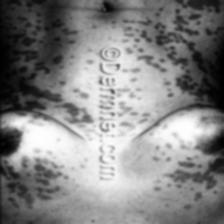Non-Cancerous Skin Condition: (146, 0, 222, 103), (0, 156, 60, 211), (165, 156, 224, 190)
